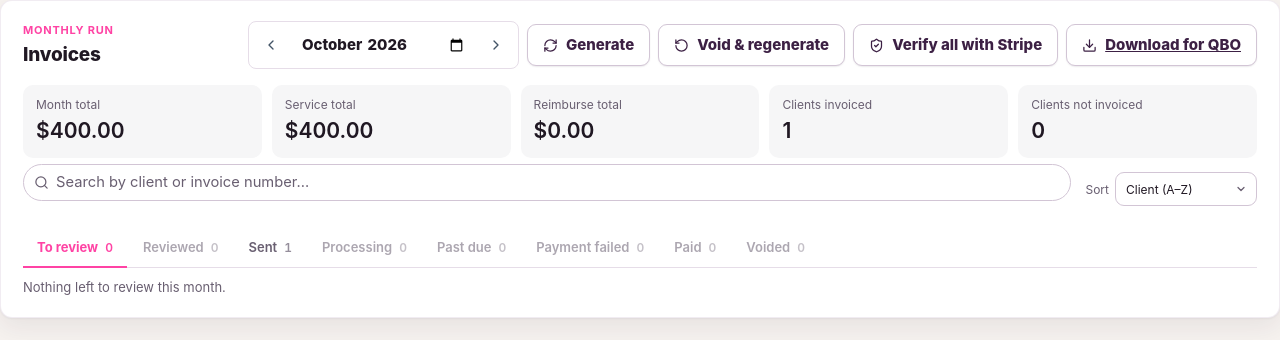
Test: the Payment failed tab › has its own empty message, so an empty tab reads as good news
Click the tab "Payment failed 0" at (590, 249), box x1=522 y1=229 x2=658 y2=268
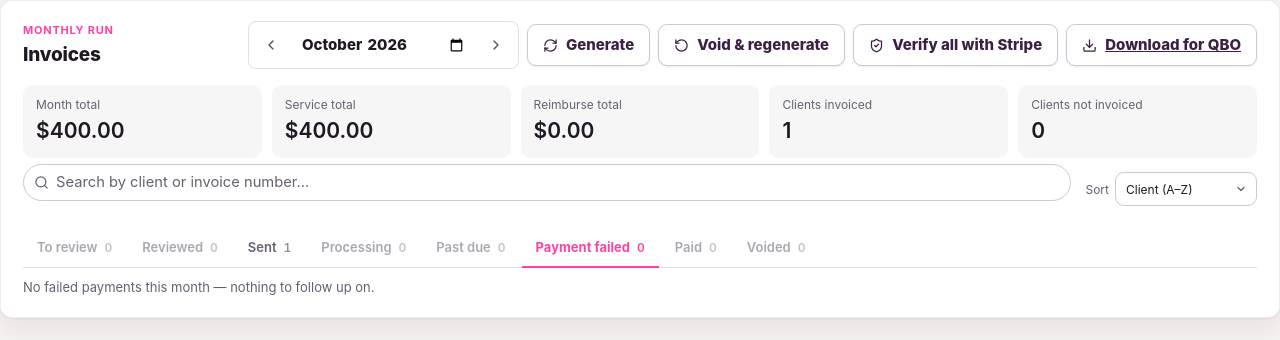
Expected: the text "No failed payments this month — nothing to follow up on." is shown, x1=23 y1=279 x2=374 y2=295
